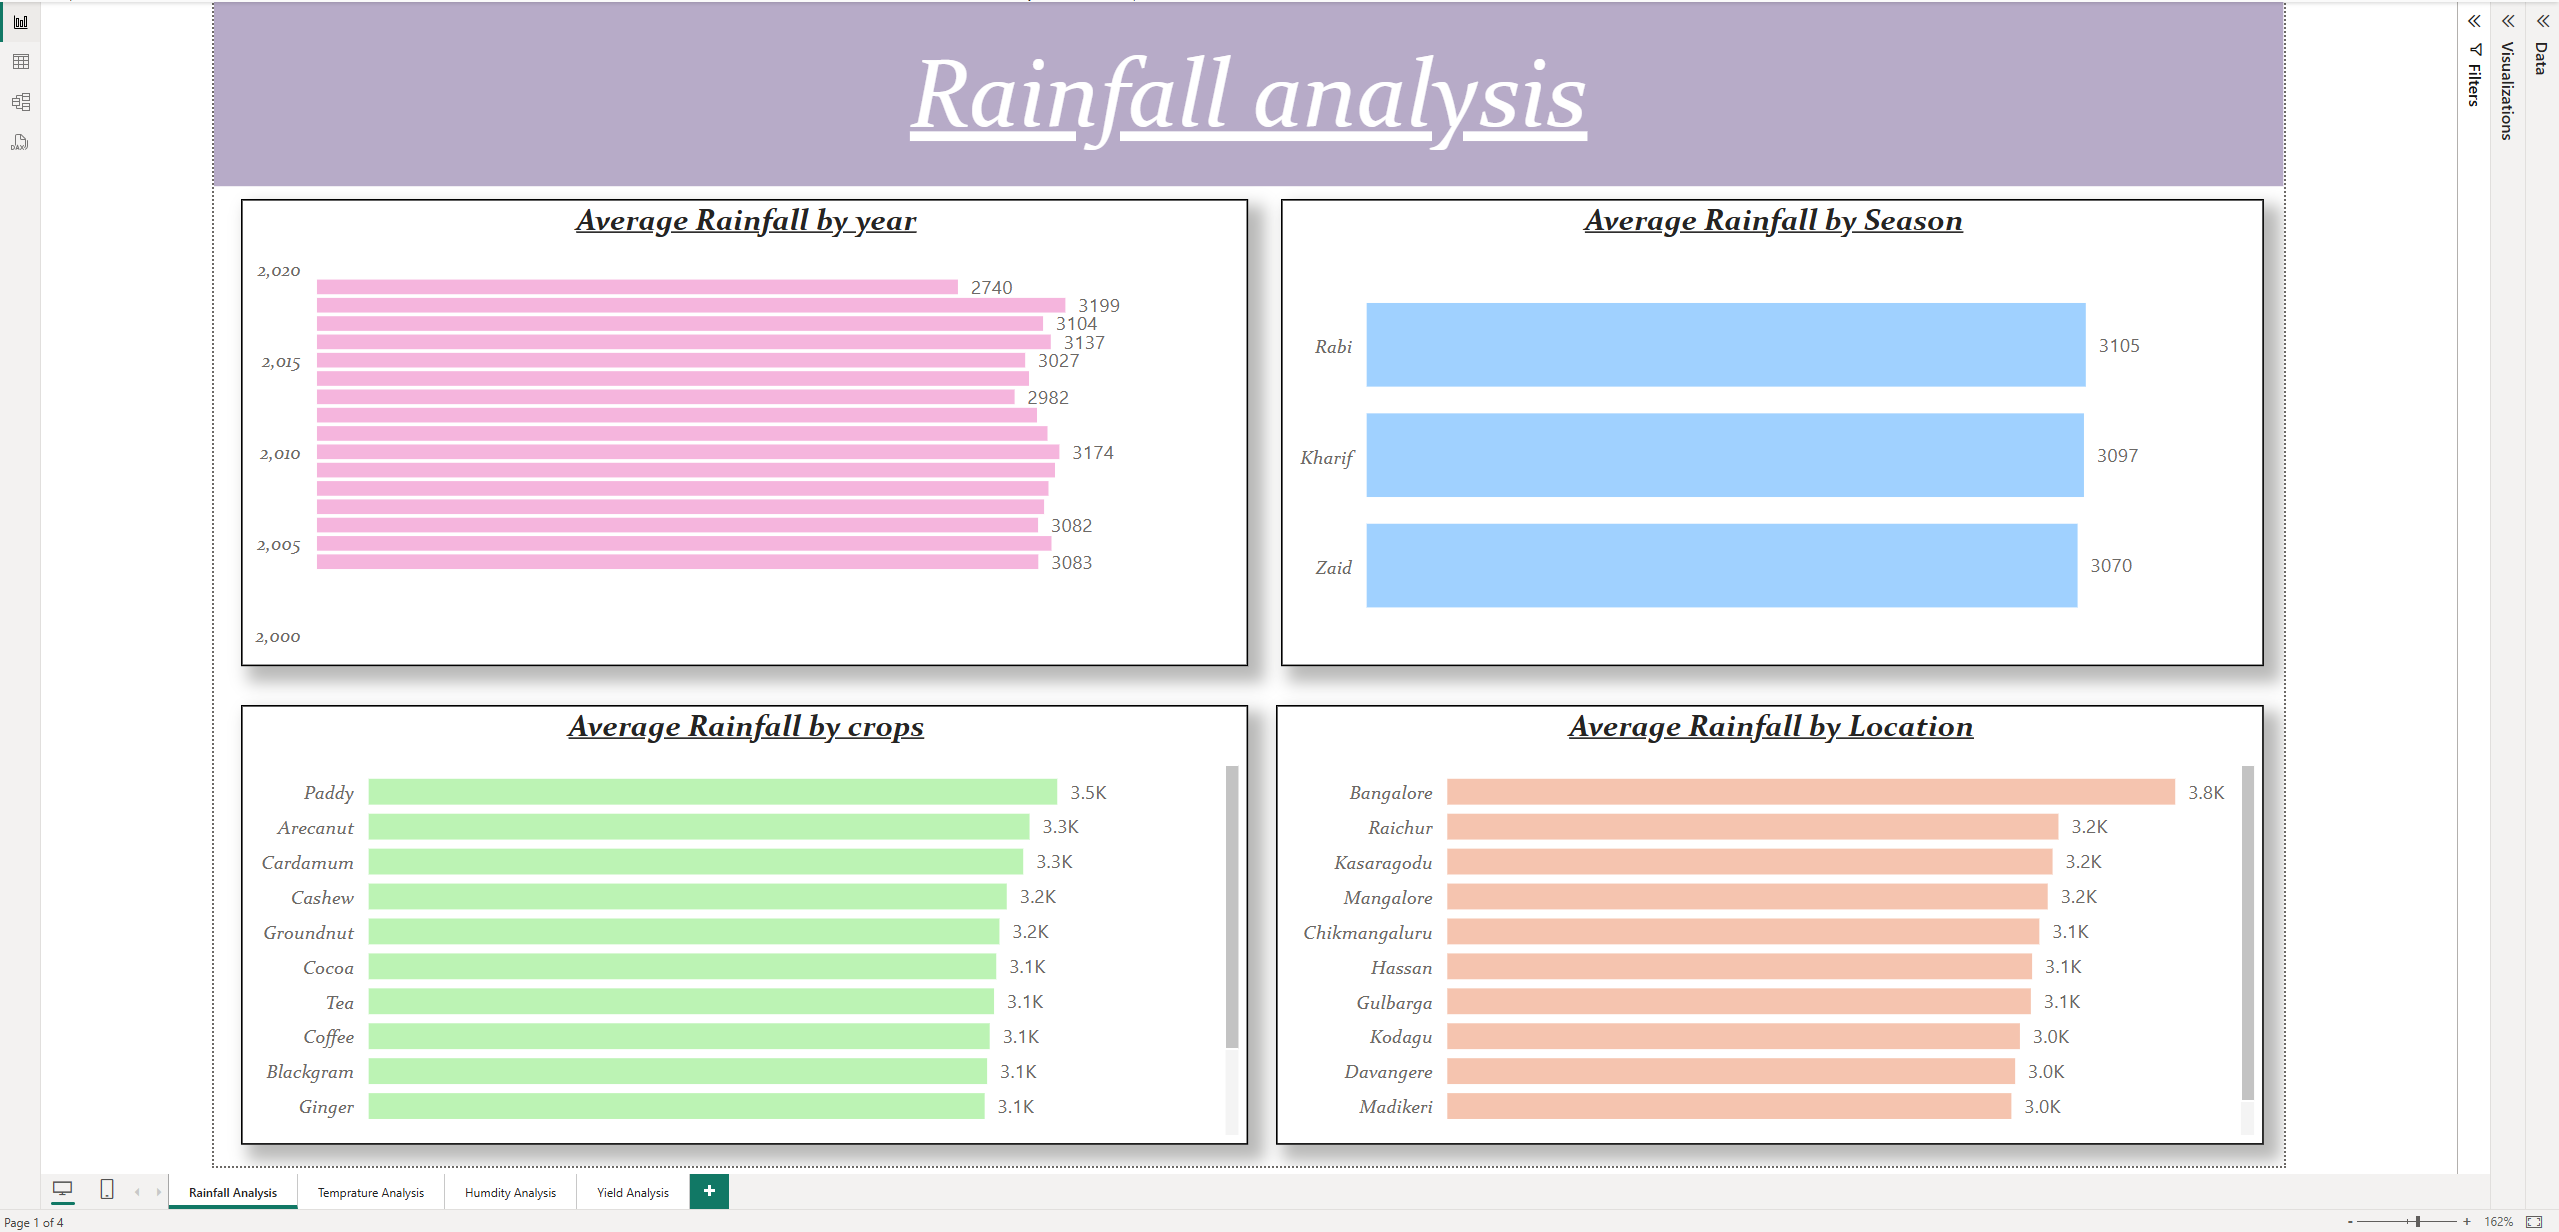

The dashboard page shown, as its layout file describes it:
{"tool":"powerbi","page":{"name":"Rainfall Analysis","canvas":[1280,720],"ordinal":0},"visuals":[{"type":"shape","box":[0,0,1280,113.9],"z":0},{"type":"barChart","title":"Average Rainfall by year","fields":{"Category":["AGRICULTURE.YEAR"],"Y":["Avg(AGRICULTURE.RAINFALL)"]},"box":[16.7,121.6,623.3,288.8],"z":1000},{"type":"barChart","title":"Average Rainfall by Season","fields":{"Y":["Avg(AGRICULTURE.RAINFALL)"],"Category":["AGRICULTURE.SEASON"]},"box":[659.8,121.6,608.1,288.8],"z":2000},{"type":"barChart","title":"Average Rainfall by crops","fields":{"Y":["Avg(AGRICULTURE.RAINFALL)"],"Category":["AGRICULTURE.CROPS"]},"box":[16.7,434.8,623.3,272.1],"z":3000},{"type":"barChart","title":"Average Rainfall by Location","fields":{"Y":["Avg(AGRICULTURE.RAINFALL)"],"Category":["AGRICULTURE.LOCATION"]},"box":[656.7,434.8,611.1,272.1],"z":4000}]}

Visuals, with their boxes on the page's 1280x720 design canvas (x1, y1, x2, y2). These are canvas units, not pixel positions in the 2559x1232 screenshot, which may show the page scaled, cropped or inside an application window:
shape: rect(0, 0, 1280, 114)
"Average Rainfall by year" barChart: rect(17, 122, 640, 410)
"Average Rainfall by Season" barChart: rect(660, 122, 1268, 410)
"Average Rainfall by crops" barChart: rect(17, 435, 640, 707)
"Average Rainfall by Location" barChart: rect(657, 435, 1268, 707)
